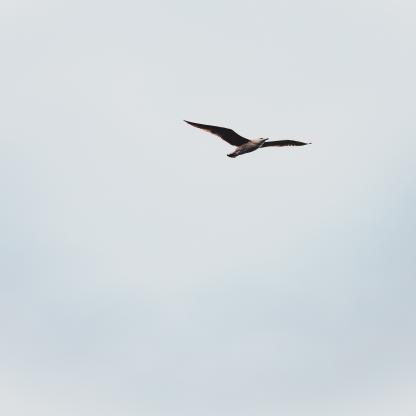bird: (183, 118, 315, 158)
